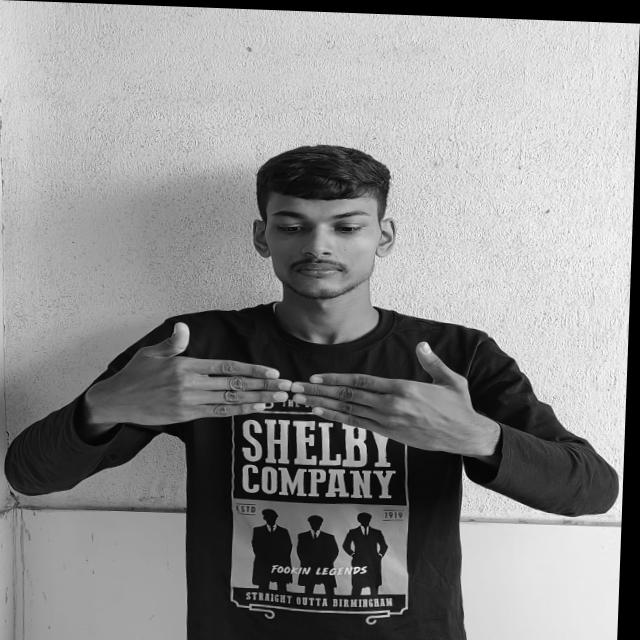Night: (122, 310, 477, 437)
